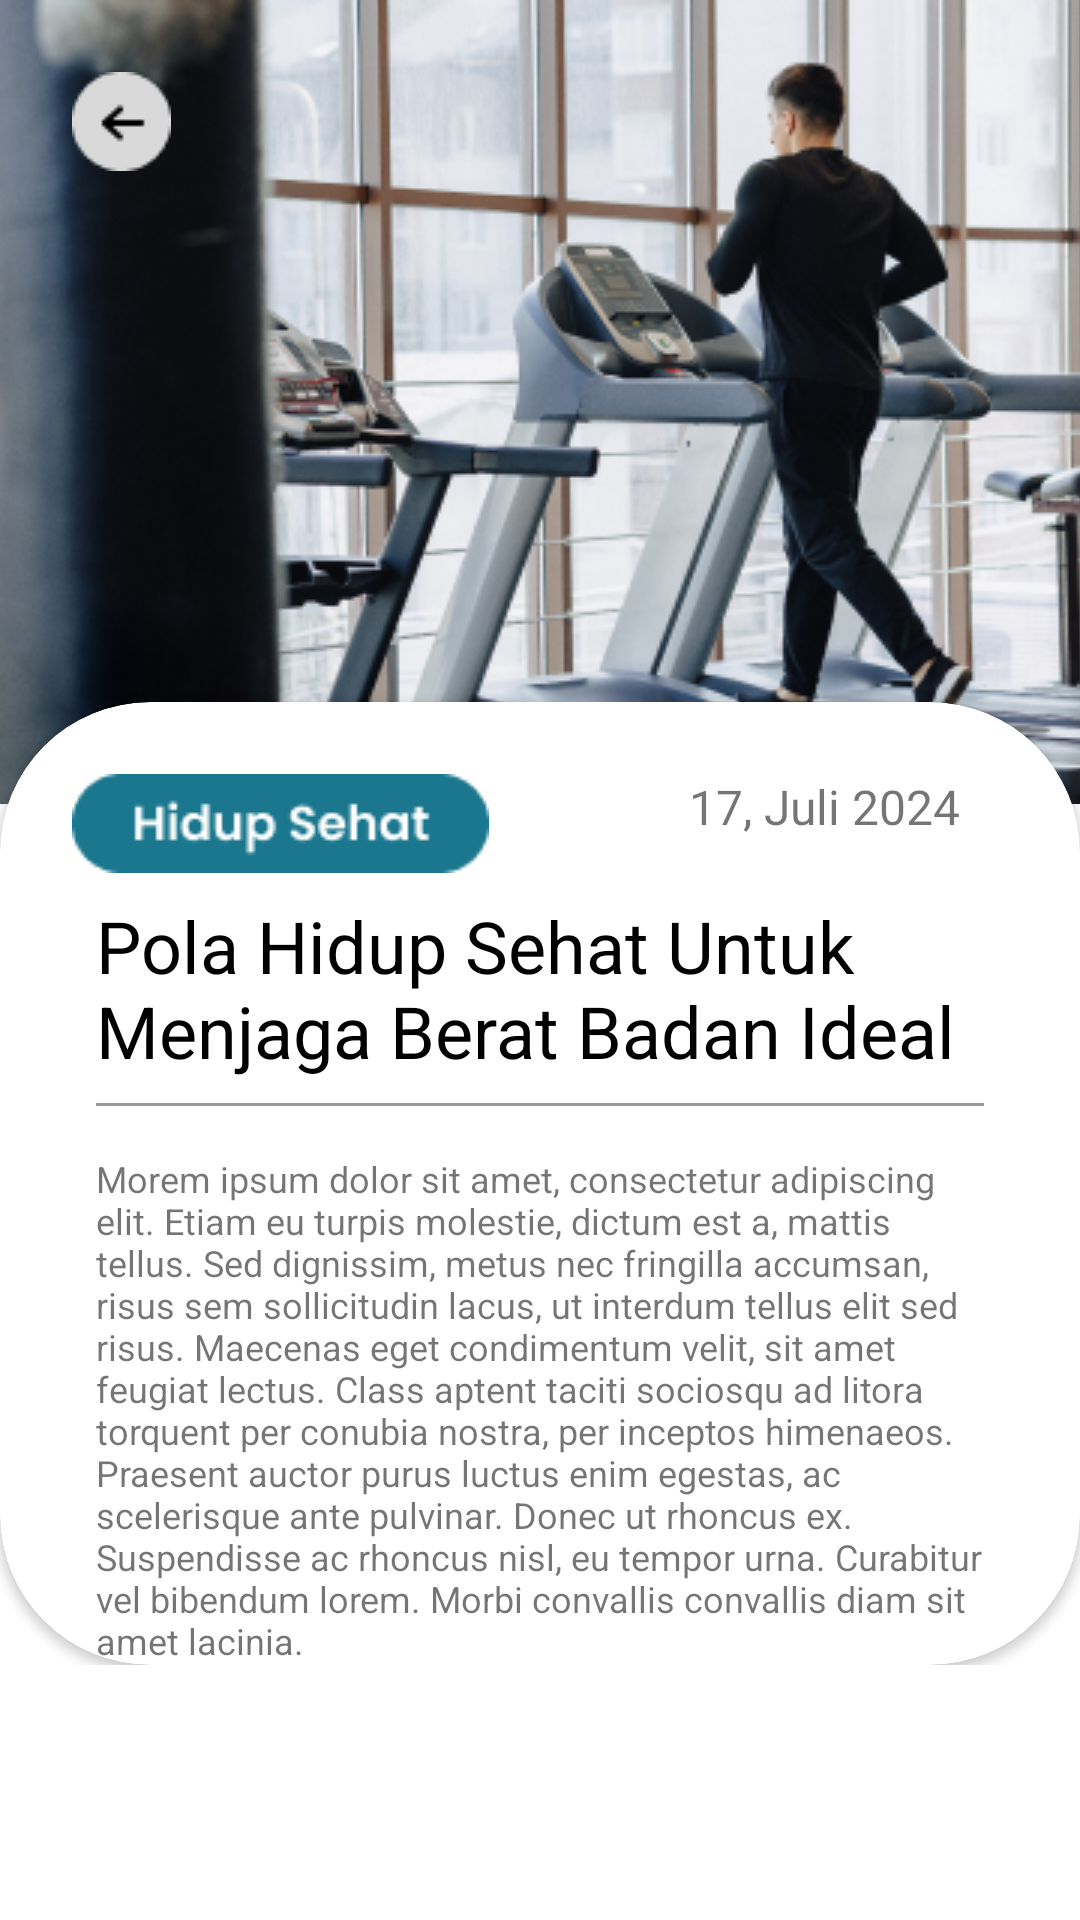

Icon click points for this 1080w x 1920h phone screenshot, format point (x, y):
back: point (121, 121)
